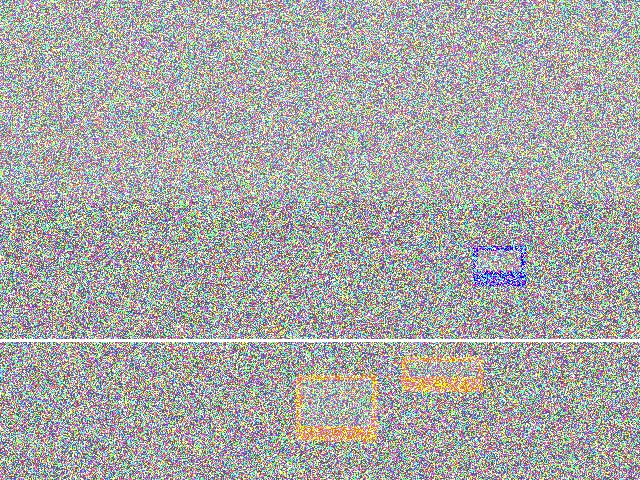truck: (476, 212, 589, 333)
